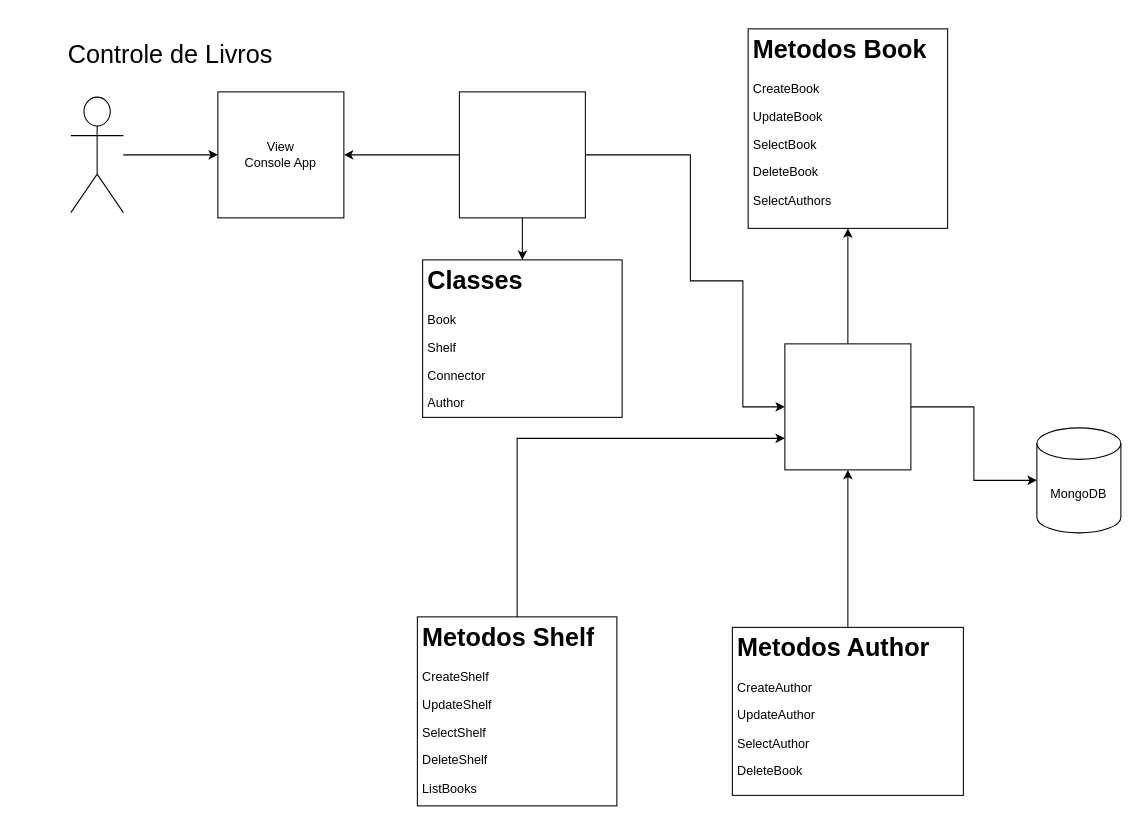
Some shapes in this 1139 by 824 pixel diagram are drawn without their labels. Here are the shapes that lost their labels. From the top down, the centre of each, then its label:
(x=96, y=154): Actor
(x=521, y=154): Model Classes
(x=847, y=406): Controller Métodos
